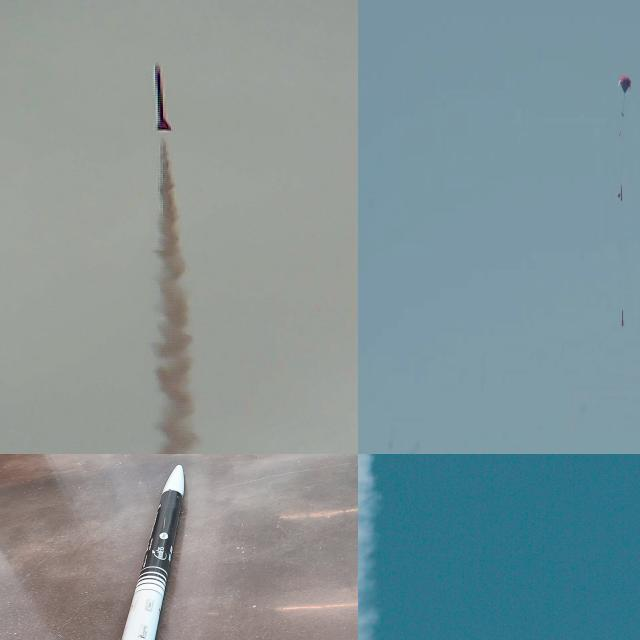Rocket: (121, 465, 185, 640), (153, 61, 173, 132), (622, 310, 624, 326)
